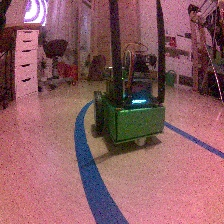rob: (91, 49, 166, 146)
